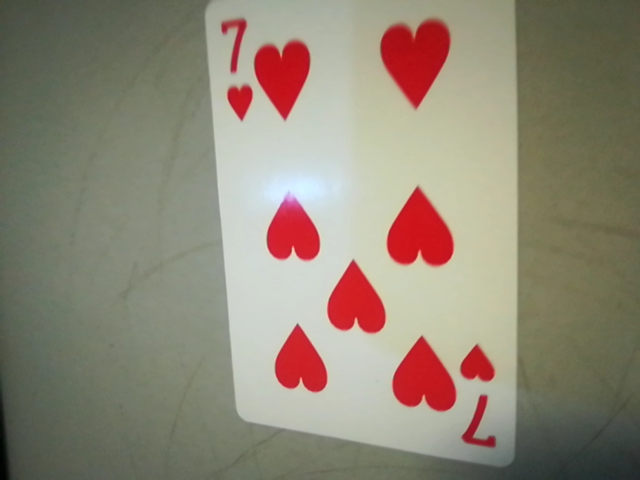hx 7: (454, 342, 514, 458)
